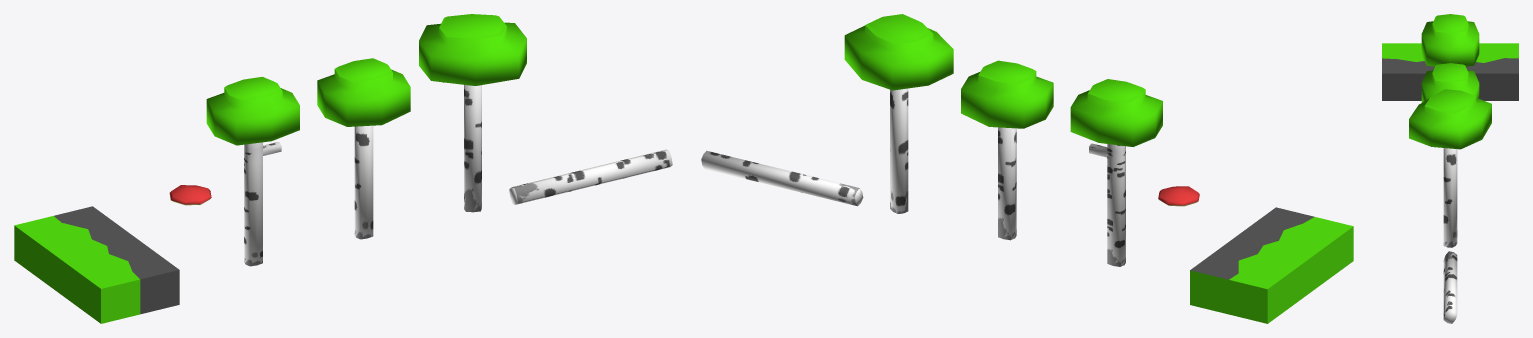
Rendered from forest.fbx.
3 renders of one model, left to right at view 1: azimuth 30°, elevation 25°; view 2: azimuth 150°, elevation 25°; view 3: azimuth 270°, elevation 25°, orthographic. The views are drawn at different scales.
Parts seen in each view (by area): view 1: transground, tree3, tree1, tree2, stump, shroom; view 2: transground, tree3, tree1, tree2, stump, shroom; view 3: tree3, transground, tree1, tree2, stump.
Part boxes in pixels (x1,y1,x2,y2): transground: (14,206,179,323); tree3: (419,14,526,212); tree1: (206,76,299,266); tree2: (317,58,410,239); stump: (509,149,672,204); shroom: (169,185,211,205); transground: (1190,207,1353,323); tree3: (844,14,953,213); tree1: (1070,79,1162,266); tree2: (961,60,1053,240); stump: (701,150,863,206); shroom: (1158,186,1199,206); tree3: (1409,89,1491,247); transground: (1382,43,1518,100); tree1: (1421,14,1479,66); tree2: (1421,63,1479,102); stump: (1443,251,1457,323).
Size of the model in its own units: 3687 by 1096 by 908.
